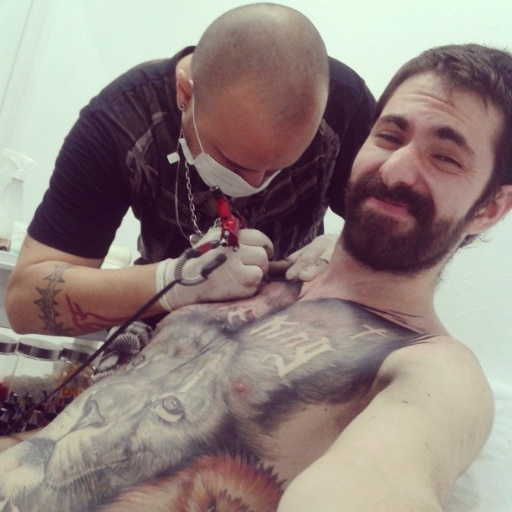hand: (158, 225, 283, 303), (266, 224, 347, 283)
